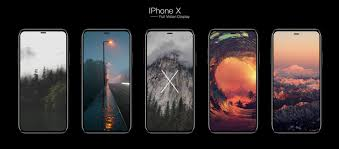iphone10: (15, 24, 71, 138), (78, 22, 134, 136), (143, 23, 199, 137), (206, 24, 262, 138), (268, 23, 324, 137)
